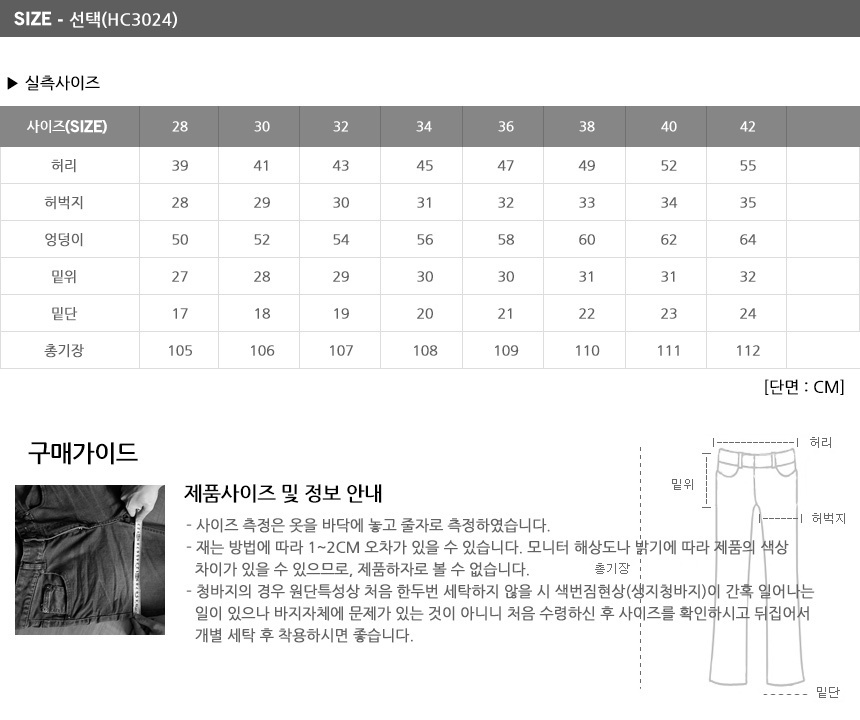table: (1, 106, 788, 367)
